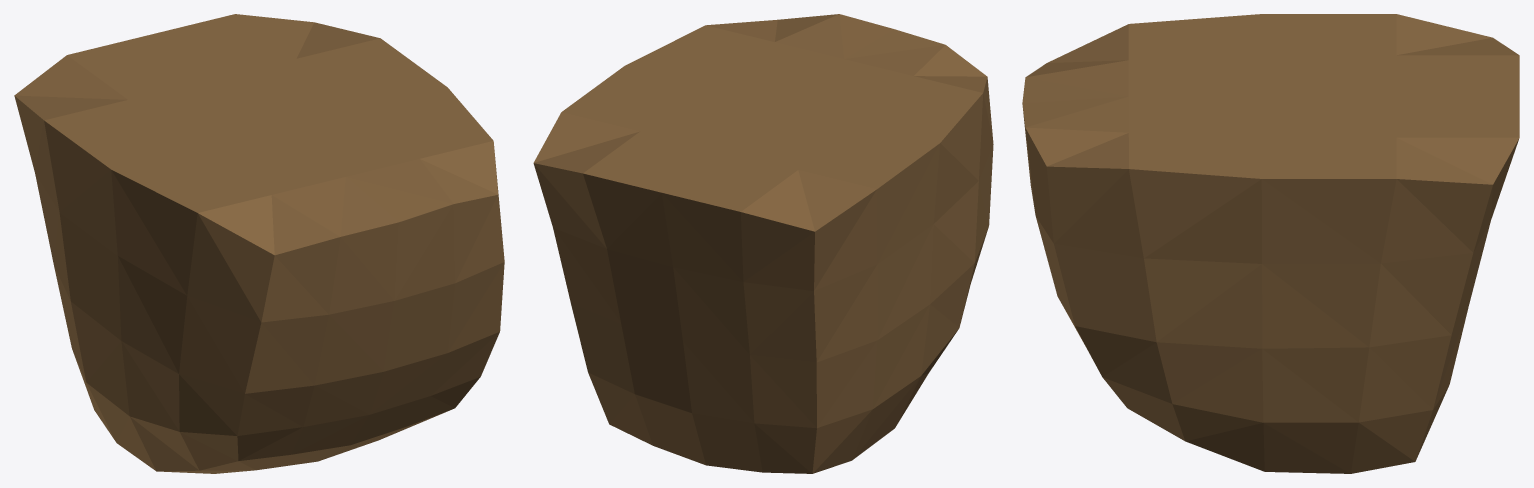
File: RightFingerJoint53y_joint_visu.dae
3 views of the same model, side by side, from view 1: azimuth 30°, elevation 25°; view 2: azimuth 150°, elevation 25°; view 3: azimuth 270°, elevation 25° (orthographic). The views are drawn at different scales.
Parts seen in each view (by area): view 1: node; view 2: node; view 3: node.
Part boxes in pixels (left/top/right/bottom): node: left=14, top=14, right=504, bottom=473; node: left=533, top=14, right=993, bottom=473; node: left=1022, top=14, right=1519, bottom=473.
Size of the model in its own units: 0.00871 by 0.00847 by 0.0111.
